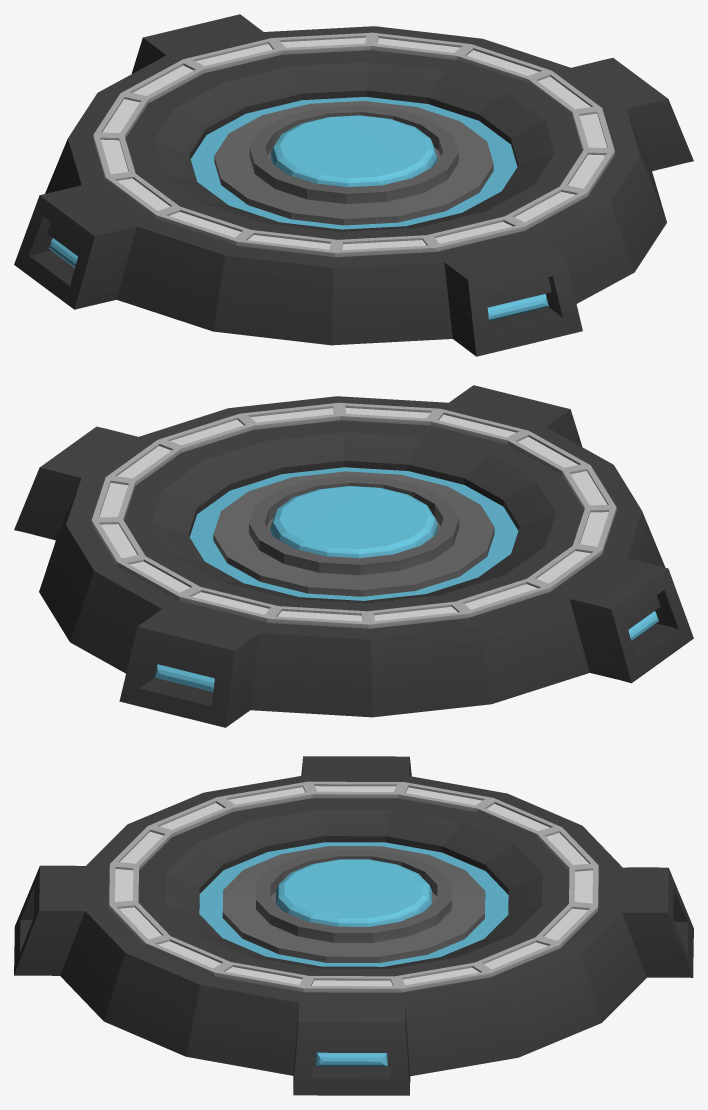
The model's file is Teleporter.obj.
3 renders of one model, top to bottom at view 1: azimuth 30°, elevation 25°; view 2: azimuth 150°, elevation 25°; view 3: azimuth 270°, elevation 25°, orthographic. The views are drawn at different scales.
Parts seen in each view (by area): view 1: Teleporter; view 2: Teleporter; view 3: Teleporter.
Boxes of the visible parts, x1,y1,x2,y2 form: Teleporter: (14, 14, 693, 356); Teleporter: (14, 385, 693, 727); Teleporter: (14, 756, 693, 1095).
Size of the model in its own units: 26.31 by 2.86 by 26.31.
